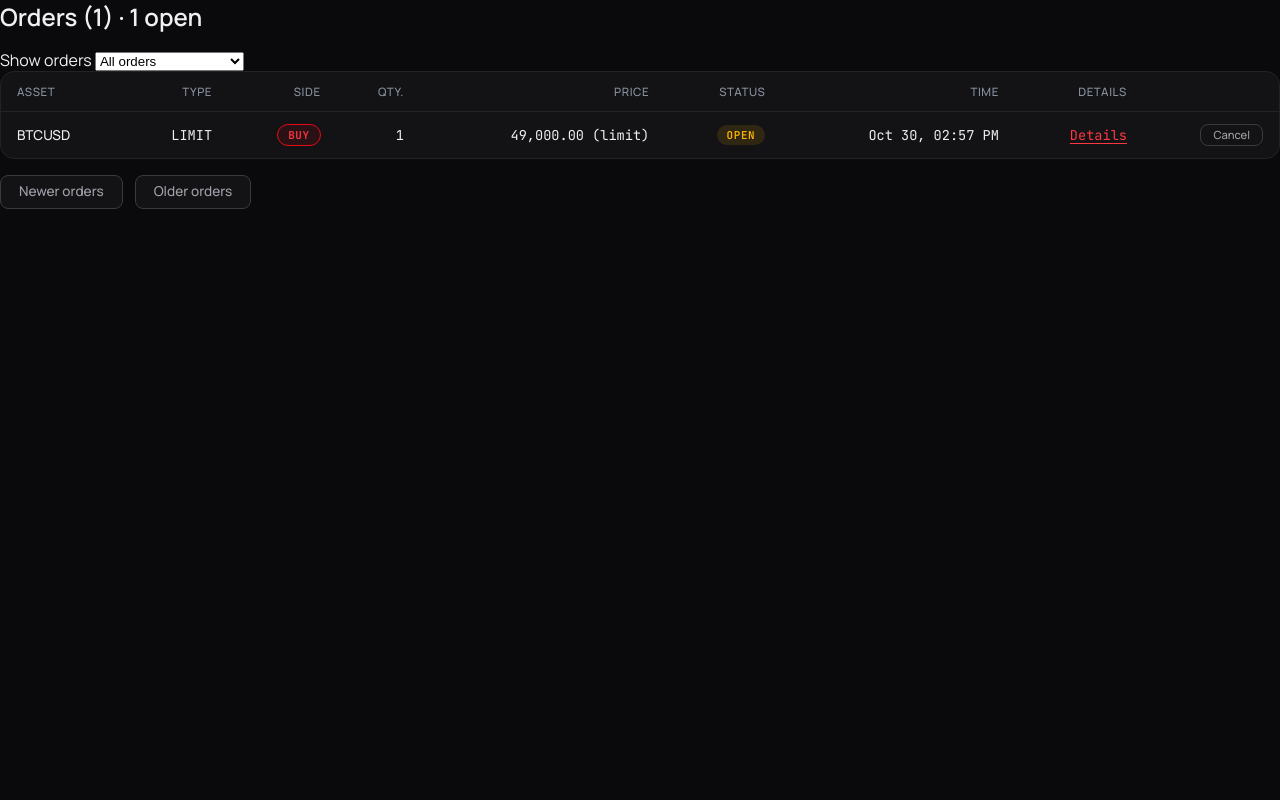
Scenario: Orders cancel confirmation › the dialog names exactly what is being cancelled
Click the button "Cancel" at (1232, 135), box [1200, 124, 1263, 146]
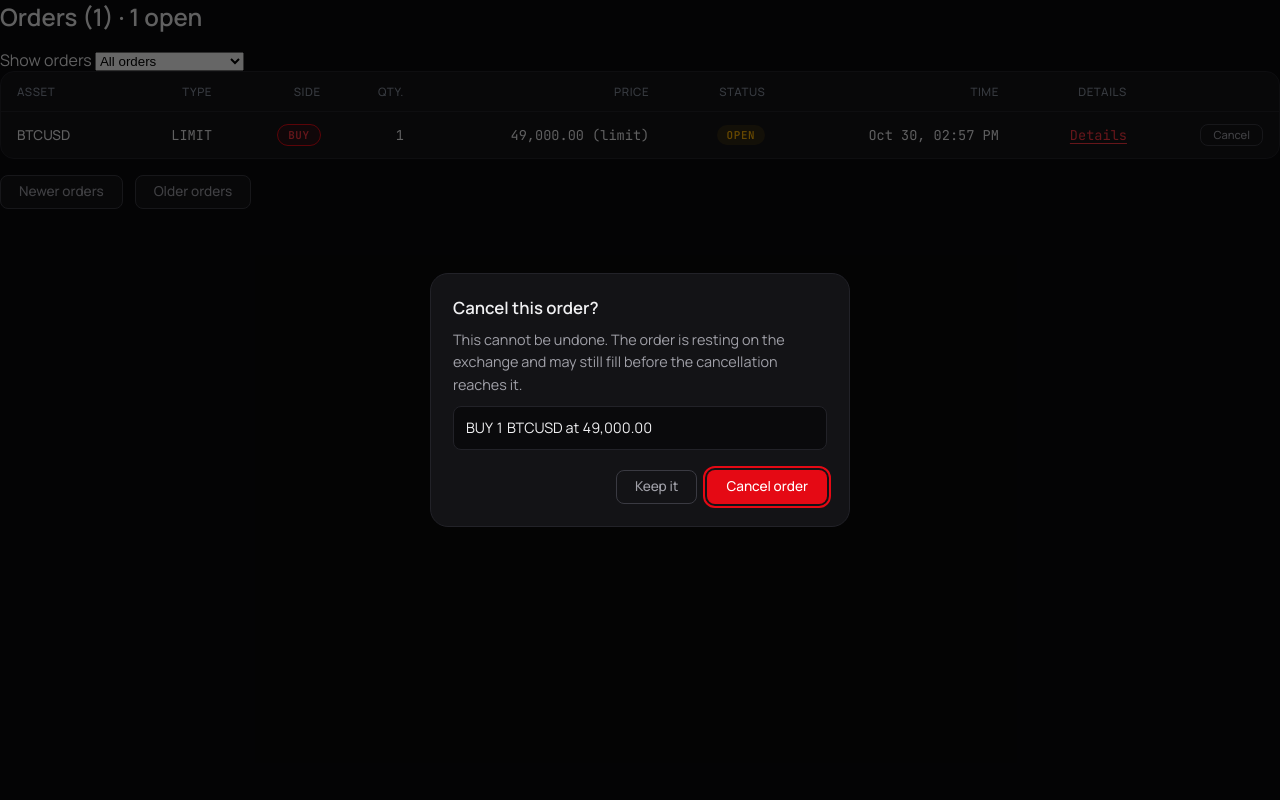
Expected: the dialog shows "BUY", [466, 418, 492, 437]
Expected: the dialog shows "BTCUSD", [507, 418, 563, 437]
Expected: the dialog shows "49,000.00", [563, 418, 652, 437]
